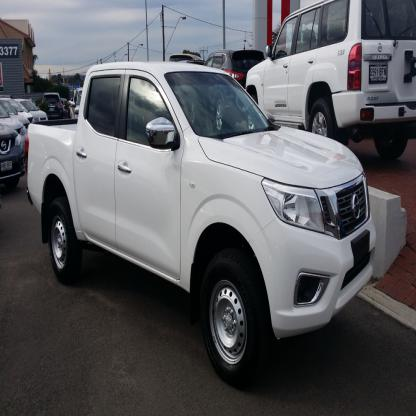Truck: (25, 62, 377, 387)
